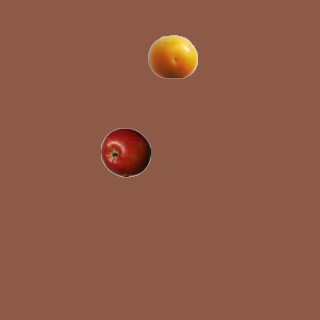Apple Braeburn: (100, 127, 150, 177)
Cherry Wax Yellow: (147, 31, 197, 81)
